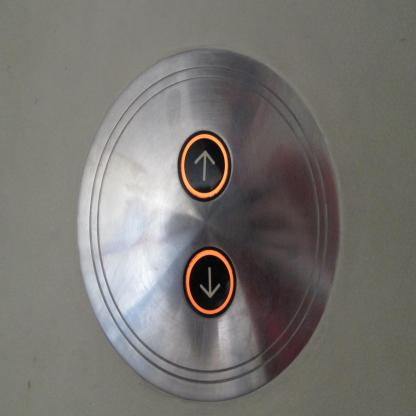down: (181, 244, 238, 318)
up: (176, 128, 233, 202)
